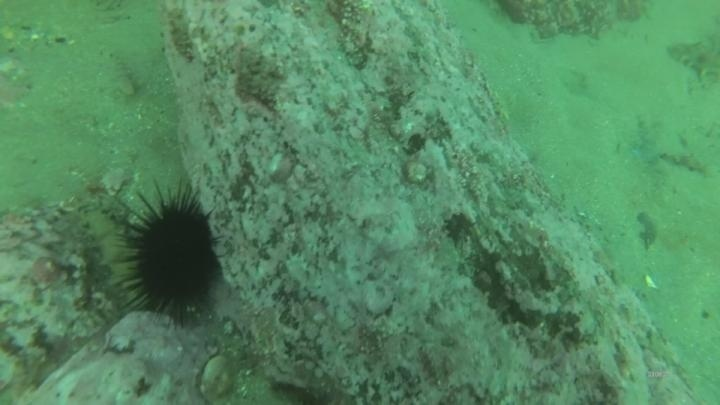echinus: (113, 184, 223, 325)
holothurian: (77, 206, 151, 312), (664, 34, 720, 85), (481, 78, 515, 130)
scallop: (199, 356, 234, 405)
